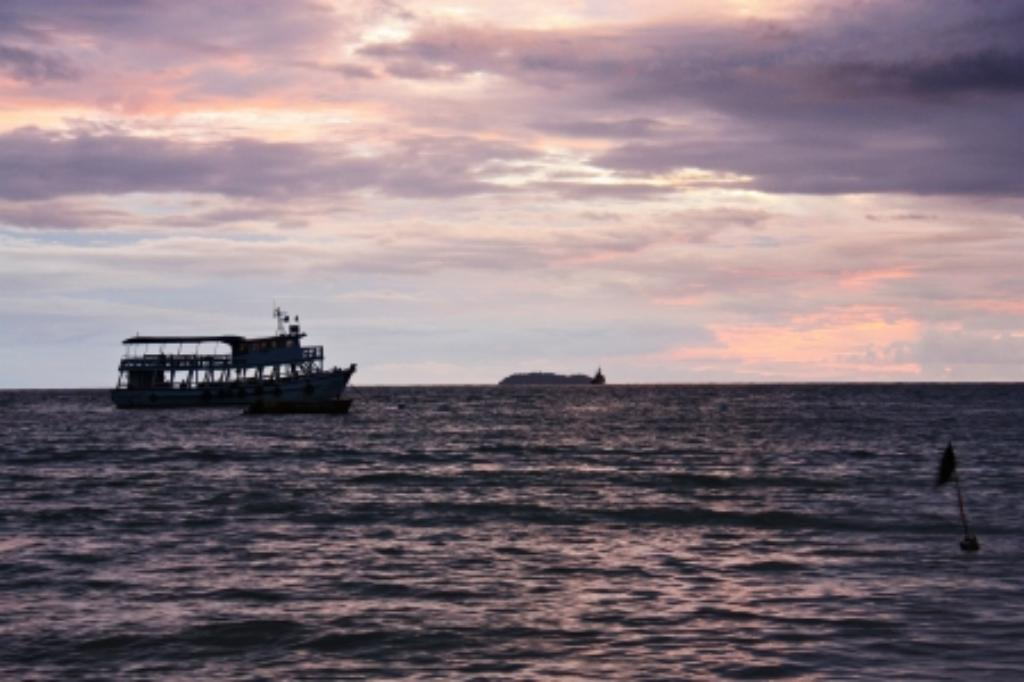PassengerShip: (89, 304, 363, 406)
